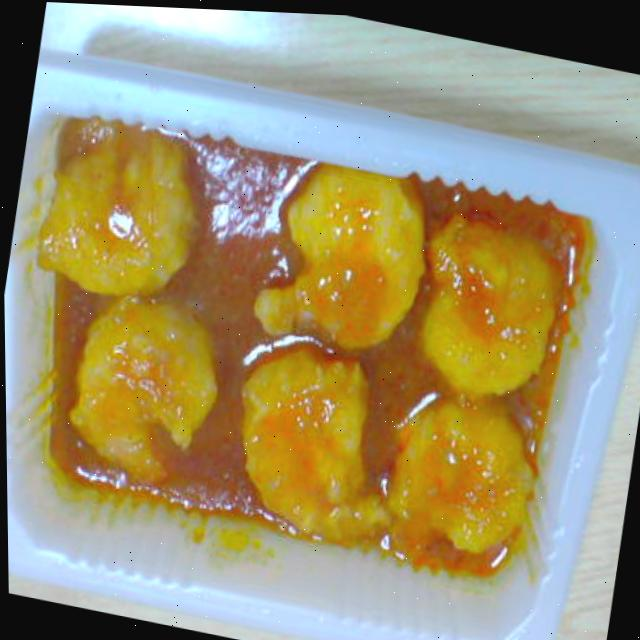熟制海鲜: (1, 96, 608, 613)
